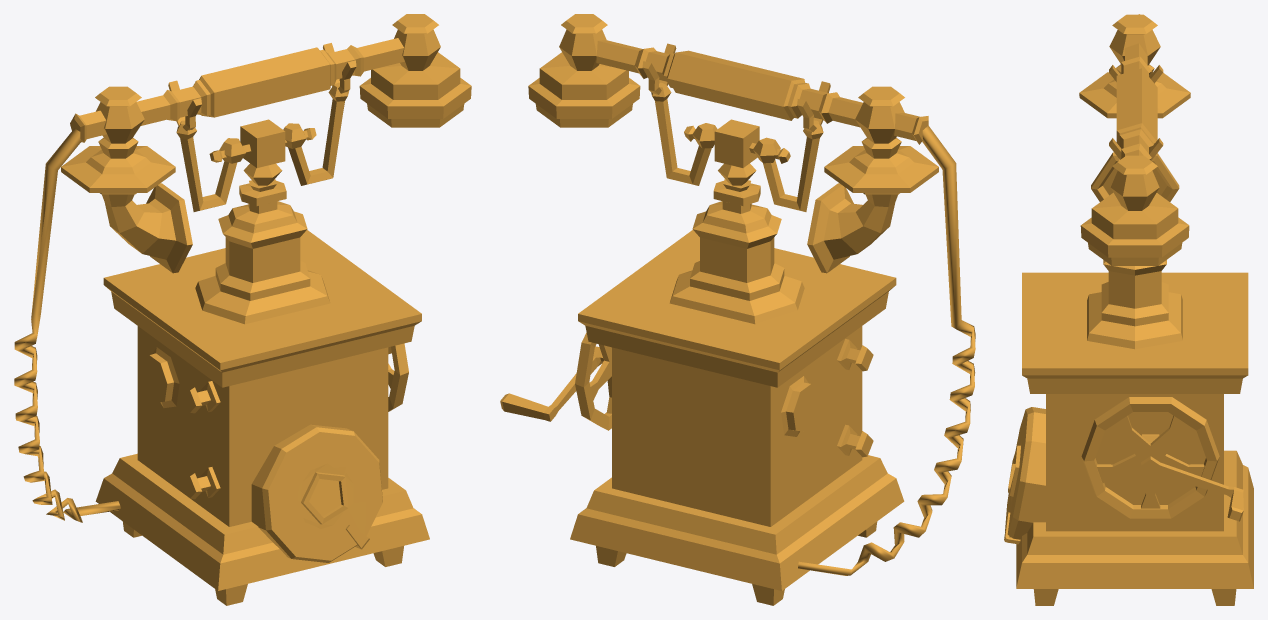
File: SM_Telephone_Table_Victorian.fbx
The picture shows the model from 3 angles, left to right: view 1: azimuth 30°, elevation 25°; view 2: azimuth 150°, elevation 25°; view 3: azimuth 270°, elevation 25°; orthographic projection. The views are drawn at different scales.
Visible parts, largest first — view 1: telephone-table-victorian; view 2: telephone-table-victorian; view 3: telephone-table-victorian.
Boxes of the visible parts, box(x1,y1,x2,y2) form: telephone-table-victorian: box(14, 14, 471, 605); telephone-table-victorian: box(500, 14, 975, 605); telephone-table-victorian: box(1004, 14, 1253, 605).
Size of the model in its own units: 0.4534 by 0.4837 by 0.2307.
